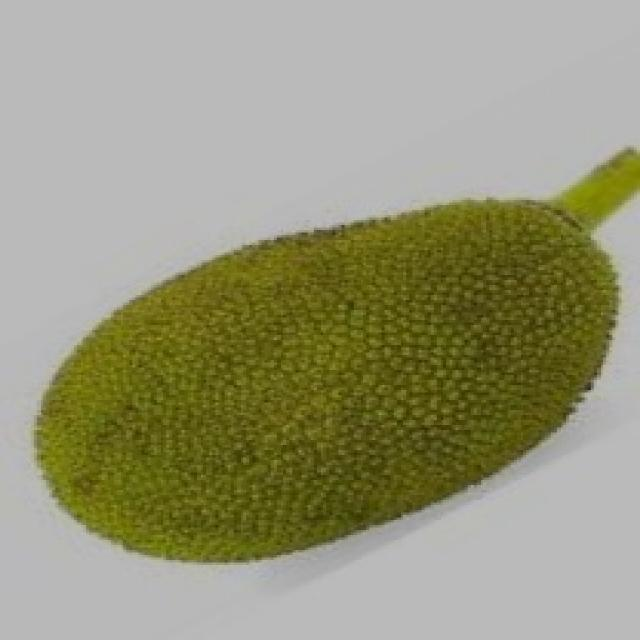Fruit: (6, 208, 443, 600), (246, 178, 637, 558)
